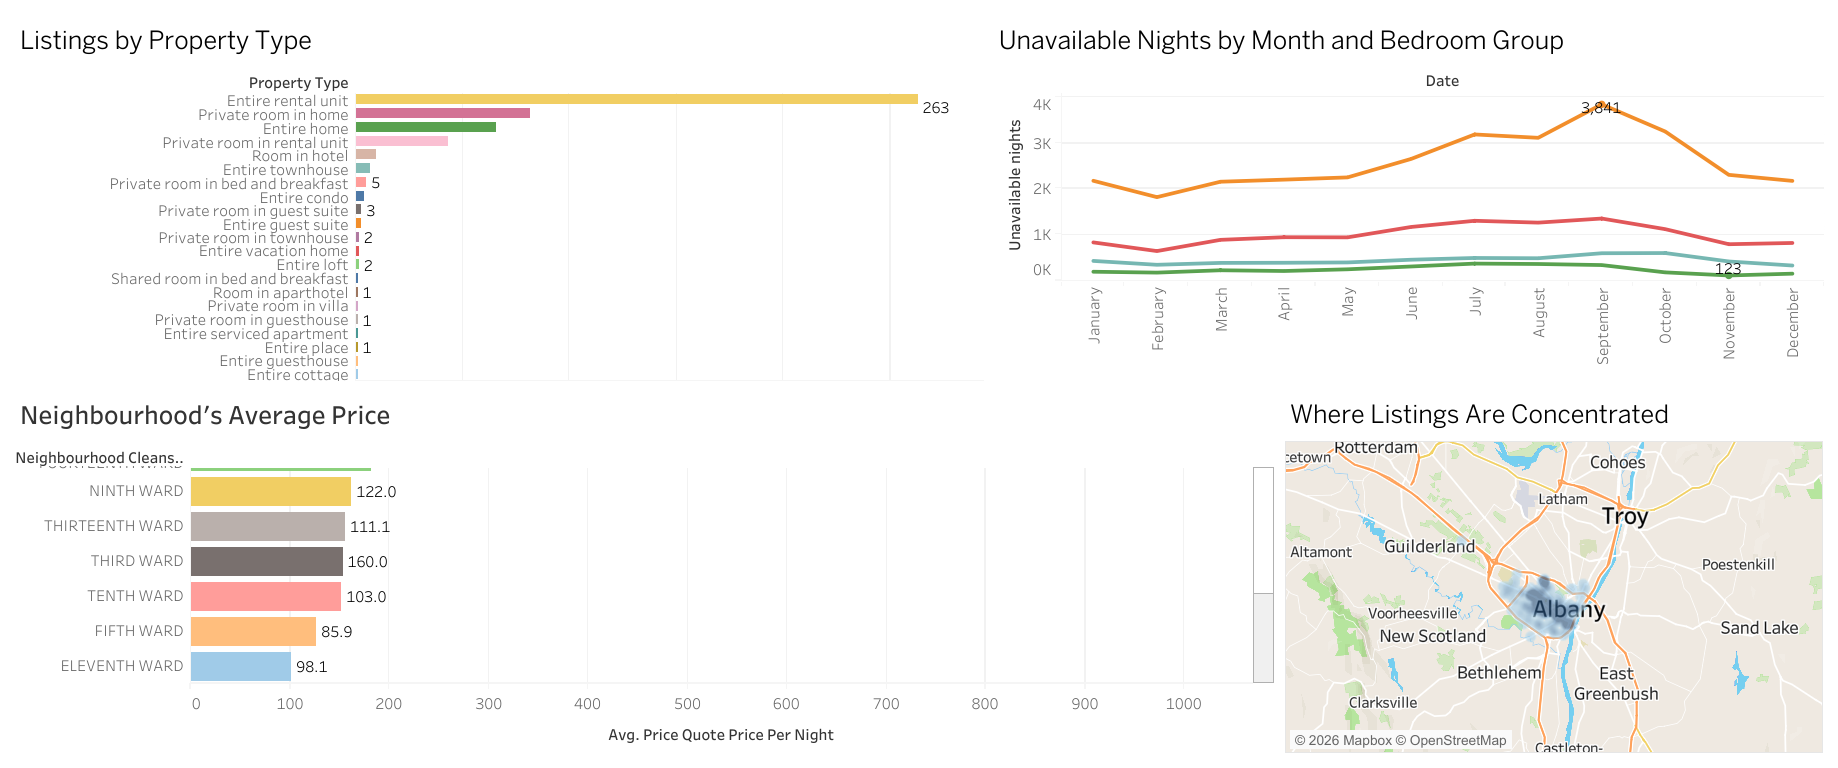

What the dashboard file says about the page in this screenshot:
{"tool":"tableau","page":{"name":"Dashboard 1","canvas":[1000,1000],"units":"permille","ordinal":0},"visuals":[{"type":"worksheet","title":"Sheet 3","mark":"Automatic","rows":["property_type"],"cols":["id"],"box":[4.8,9.4,532.9,490.6]},{"type":"worksheet","title":"Sheet 4","mark":"Automatic","rows":["calendar_data.csv_556B712D48AC4A5FAE19DF7B3F455C37"],"cols":["date"],"box":[537.8,9.4,457.4,490.6]},{"type":"worksheet","title":"Sheet 5","mark":"Automatic","rows":["neighbourhood_cleansed"],"cols":["price_quote_price_per_night"],"box":[4.8,500,691.3,490.6]},{"type":"worksheet","title":"Sheet 2","mark":"Heatmap","rows":["latitude"],"cols":["longitude"],"box":[696.1,500,299,490.6]}]}

Visuals, with their boxes on the dashboard's canvas, which has no fixed pixel size, in thousandths of its width and height (x1, y1, x2, y2). These are canvas units, not pixel positions in the 1838x768 screenshot, which may show the page scaled, cropped or inside an application window:
"Sheet 3" worksheet: (5, 9, 538, 500)
"Sheet 4" worksheet: (538, 9, 995, 500)
"Sheet 5" worksheet: (5, 500, 696, 991)
"Sheet 2" worksheet (Heatmap marks): (696, 500, 995, 991)
